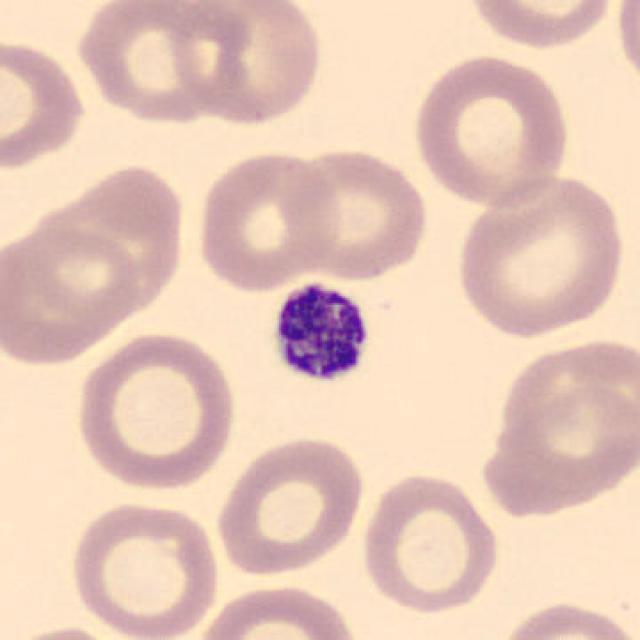Platelets: (263, 277, 377, 391)
RBC: (450, 169, 629, 342), (71, 328, 240, 495), (476, 351, 638, 520), (407, 49, 574, 210), (212, 432, 368, 580), (64, 497, 224, 640), (192, 144, 340, 294), (73, 0, 247, 127), (28, 175, 184, 314), (357, 468, 503, 616), (2, 218, 144, 368), (283, 141, 430, 284), (165, 0, 327, 129), (0, 35, 91, 173), (190, 580, 363, 640), (462, 0, 619, 51), (494, 597, 638, 640), (611, 0, 640, 98), (2, 622, 137, 640)
